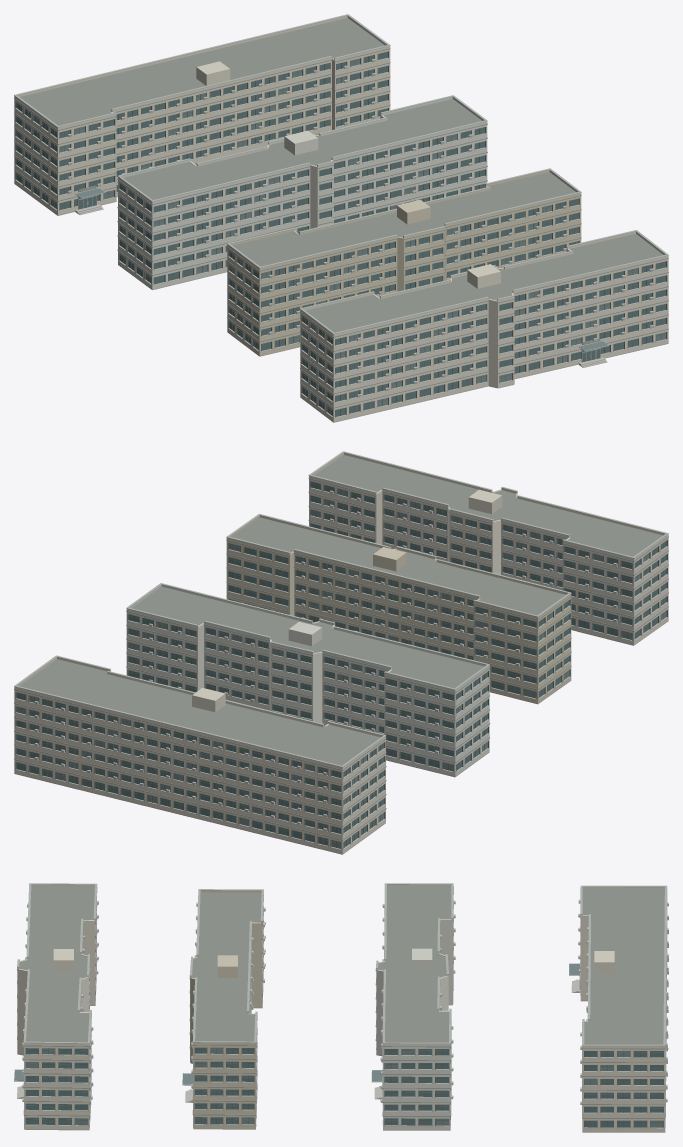
File: sports_dorms.glb
The picture shows the model from 3 angles, top to bottom: view 1: azimuth 30°, elevation 25°; view 2: azimuth 150°, elevation 25°; view 3: azimuth 270°, elevation 25°; orthographic projection.
Parts seen in each view (by area): view 1: sports_dorms_DormCream, sports_dorms_FacultyRoof, sports_dorms_WindowGlass, sports_dorms_DormPale, sports_dorms_DormOchre, sports_dorms_FacultyDarkPanel, sports_dorms_WindowReveal, sports_dorms_WindowAluminium, sports_dorms_WindowRubber, sports_dorms_Teaching5TileJoint, sports_dorms_WindowGlassLight, sports_dorms_AirConditioner (+1 smaller); view 2: sports_dorms_DormCream, sports_dorms_FacultyRoof, sports_dorms_WindowGlass, sports_dorms_DormPale, sports_dorms_DormOchre, sports_dorms_FacultyDarkPanel, sports_dorms_WindowReveal, sports_dorms_WindowAluminium, sports_dorms_WindowRubber, sports_dorms_Teaching5TileJoint, sports_dorms_WindowGlassLight, sports_dorms_AirConditioner (+1 smaller); view 3: sports_dorms_FacultyRoof, sports_dorms_DormCream, sports_dorms_WindowGlass, sports_dorms_DormPale, sports_dorms_DormOchre, sports_dorms_Teaching5TileJoint, sports_dorms_FacultyDarkPanel, sports_dorms_WindowAluminium, sports_dorms_WindowGlassLight, sports_dorms_WindowRubber, sports_dorms_WindowReveal, sports_dorms_AirConditioner (+1 smaller).
Part boxes in pixels (left/top/right/bottom): sports_dorms_DormCream: left=14, top=16, right=668, bottom=421; sports_dorms_FacultyRoof: left=20, top=18, right=663, bottom=332; sports_dorms_WindowGlass: left=16, top=51, right=666, bottom=416; sports_dorms_DormPale: left=118, top=97, right=487, bottom=289; sports_dorms_DormOchre: left=227, top=170, right=581, bottom=355; sports_dorms_FacultyDarkPanel: left=14, top=48, right=668, bottom=408; sports_dorms_WindowReveal: left=15, top=51, right=667, bottom=417; sports_dorms_WindowAluminium: left=15, top=57, right=666, bottom=417; sports_dorms_WindowRubber: left=16, top=53, right=666, bottom=415; sports_dorms_Teaching5TileJoint: left=14, top=14, right=668, bottom=334; sports_dorms_WindowGlassLight: left=16, top=58, right=666, bottom=415; sports_dorms_AirConditioner: left=67, top=59, right=653, bottom=397; sports_dorms_DormCream: left=14, top=453, right=668, bottom=853; sports_dorms_FacultyRoof: left=20, top=455, right=662, bottom=765; sports_dorms_WindowGlass: left=16, top=481, right=666, bottom=847; sports_dorms_DormPale: left=126, top=585, right=489, bottom=776; sports_dorms_DormOchre: left=226, top=515, right=571, bottom=703; sports_dorms_FacultyDarkPanel: left=14, top=478, right=668, bottom=840; sports_dorms_WindowReveal: left=15, top=481, right=667, bottom=849; sports_dorms_WindowAluminium: left=16, top=487, right=667, bottom=849; sports_dorms_WindowRubber: left=16, top=483, right=666, bottom=847; sports_dorms_Teaching5TileJoint: left=14, top=451, right=668, bottom=767; sports_dorms_WindowGlassLight: left=16, top=488, right=666, bottom=848; sports_dorms_AirConditioner: left=34, top=490, right=617, bottom=831; sports_dorms_FacultyRoof: left=19, top=886, right=664, bottom=1044; sports_dorms_DormCream: left=17, top=884, right=665, bottom=1131; sports_dorms_WindowGlass: left=26, top=1047, right=663, bottom=1127; sports_dorms_DormPale: left=376, top=884, right=453, bottom=1129; sports_dorms_DormOchre: left=190, top=890, right=262, bottom=1128; sports_dorms_Teaching5TileJoint: left=17, top=883, right=667, bottom=1045; sports_dorms_FacultyDarkPanel: left=17, top=886, right=667, bottom=1118; sports_dorms_WindowAluminium: left=14, top=902, right=665, bottom=1128; sports_dorms_WindowGlassLight: left=14, top=963, right=663, bottom=1127; sports_dorms_WindowRubber: left=26, top=1048, right=663, bottom=1127; sports_dorms_WindowReveal: left=25, top=902, right=668, bottom=1127; sports_dorms_AirConditioner: left=22, top=899, right=668, bottom=1104.
Bounding box in the file's own units: 79.44 × 22.03 × 135.
